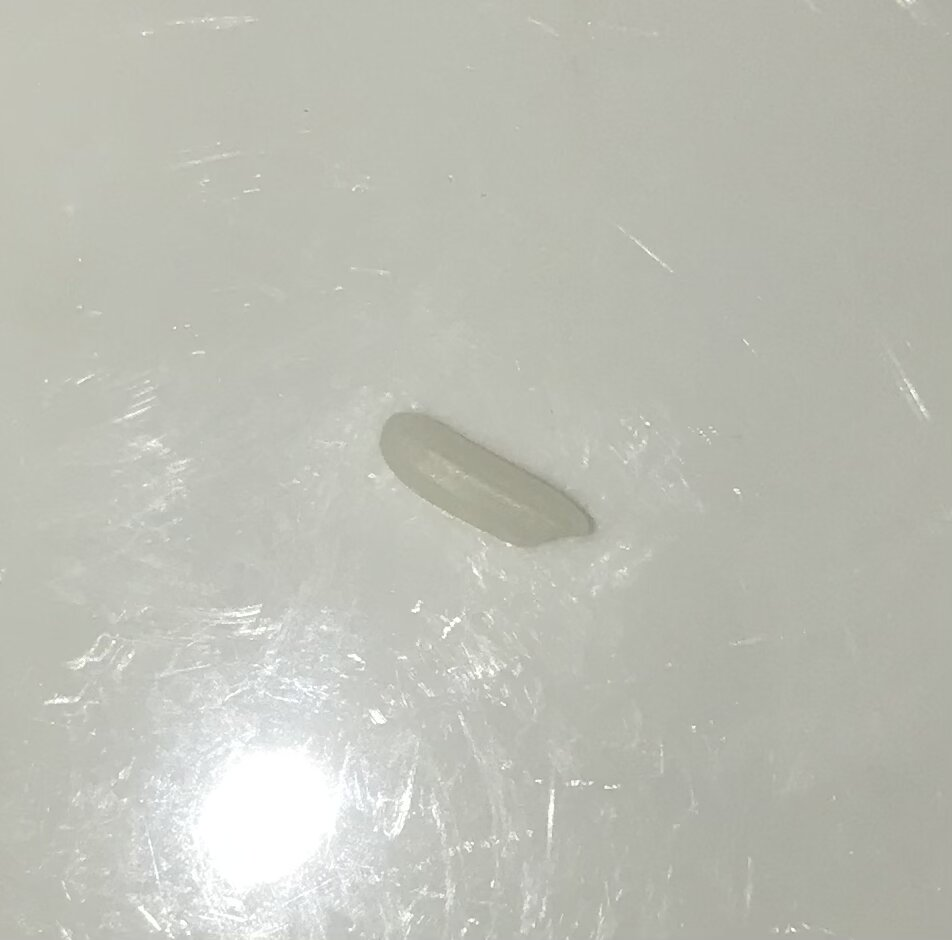Gao Lai Sua: (380, 400, 600, 557)
